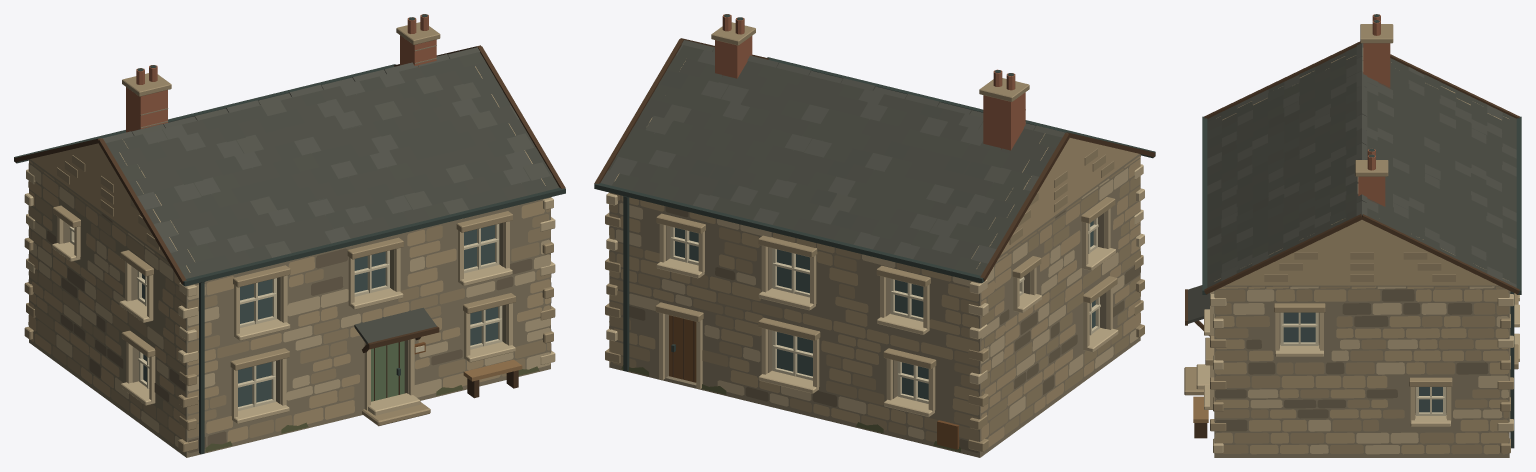
Rendered from lwf_farmhouse_v1.glb.
3 views of the same model, side by side, from view 1: azimuth 30°, elevation 25°; view 2: azimuth 150°, elevation 25°; view 3: azimuth 270°, elevation 25° (orthographic). The views are drawn at different scales.
Parts seen in each view (by area): view 1: LWF_Farmhouse_Shell, LWF_Farmhouse_Roof; view 2: LWF_Farmhouse_Shell, LWF_Farmhouse_Roof; view 3: LWF_Farmhouse_Shell, LWF_Farmhouse_Roof.
Part boxes in pixels (x1,y1,x2,y2): LWF_Farmhouse_Shell: [24, 66, 555, 457]; LWF_Farmhouse_Roof: [14, 14, 565, 286]; LWF_Farmhouse_Shell: [605, 61, 1144, 457]; LWF_Farmhouse_Roof: [594, 14, 1155, 283]; LWF_Farmhouse_Shell: [1184, 55, 1519, 457]; LWF_Farmhouse_Roof: [1202, 14, 1521, 294].
Bounding box in the file's own units: 12.64 × 9.93 × 10.29.
Materials: 1 (1 with a texture image).
